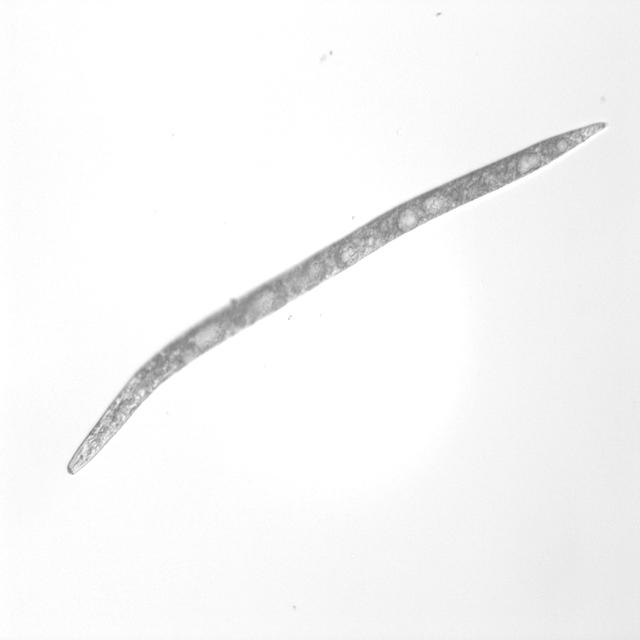Radopholus: (59, 110, 614, 480)
